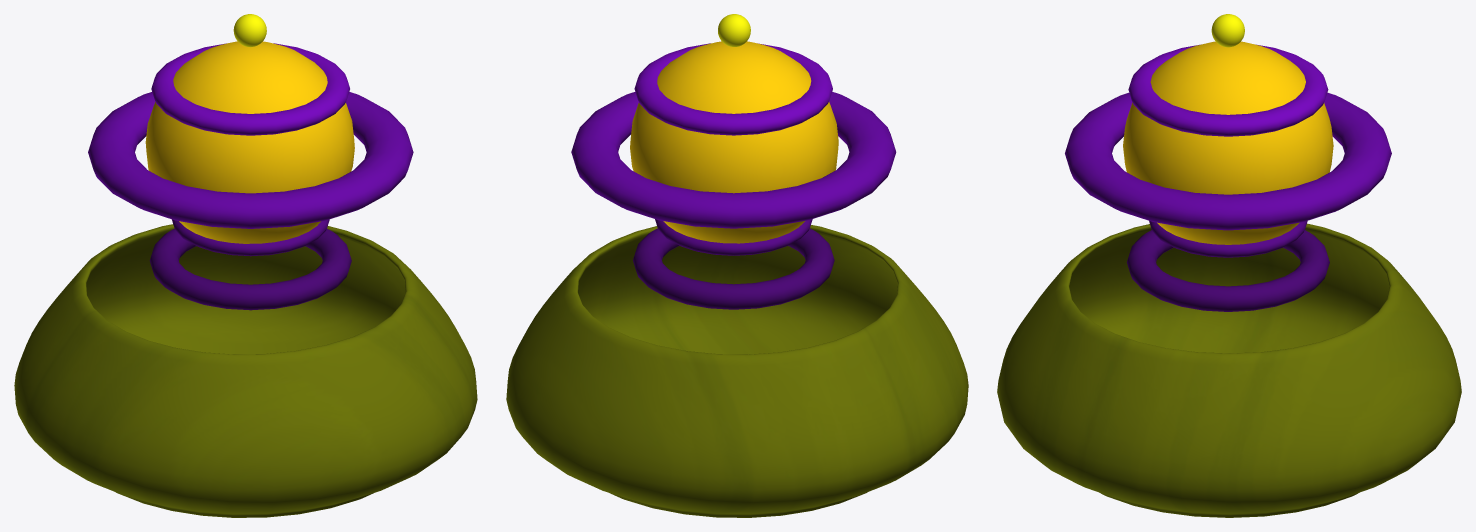
3 views of the same model, side by side, from view 1: azimuth 30°, elevation 25°; view 2: azimuth 150°, elevation 25°; view 3: azimuth 270°, elevation 25° (orthographic).
Visible parts, largest first — view 1: Teapot001, Sphere001, Torus001, Torus003, Torus004, Torus005, Sphere002; view 2: Teapot001, Sphere001, Torus001, Torus003, Torus004, Torus005, Sphere002; view 3: Teapot001, Sphere001, Torus001, Torus003, Torus004, Torus005, Sphere002.
Part boxes in pixels (left/top/right/bottom): Teapot001: left=14, top=224, right=477, bottom=517; Sphere001: left=145, top=41, right=354, bottom=243; Torus001: left=88, top=92, right=413, bottom=228; Torus003: left=149, top=228, right=351, bottom=310; Torus004: left=151, top=43, right=349, bottom=135; Torus005: left=172, top=219, right=329, bottom=256; Sphere002: left=233, top=14, right=266, bottom=47; Teapot001: left=506, top=225, right=968, bottom=517; Sphere001: left=630, top=41, right=838, bottom=243; Torus001: left=571, top=92, right=896, bottom=228; Torus003: left=633, top=228, right=834, bottom=309; Torus004: left=634, top=43, right=832, bottom=135; Torus005: left=655, top=219, right=812, bottom=255; Sphere002: left=718, top=14, right=750, bottom=46; Teapot001: left=997, top=223, right=1461, bottom=517; Sphere001: left=1123, top=41, right=1333, bottom=244; Torus001: left=1065, top=92, right=1391, bottom=230; Torus003: left=1127, top=230, right=1329, bottom=311; Torus004: left=1128, top=44, right=1328, bottom=136; Torus005: left=1149, top=221, right=1307, bottom=257; Sphere002: left=1211, top=14, right=1244, bottom=47.
Bounding box in the file's own units: 495 × 515 × 495.
7 materials, 7 textured.
